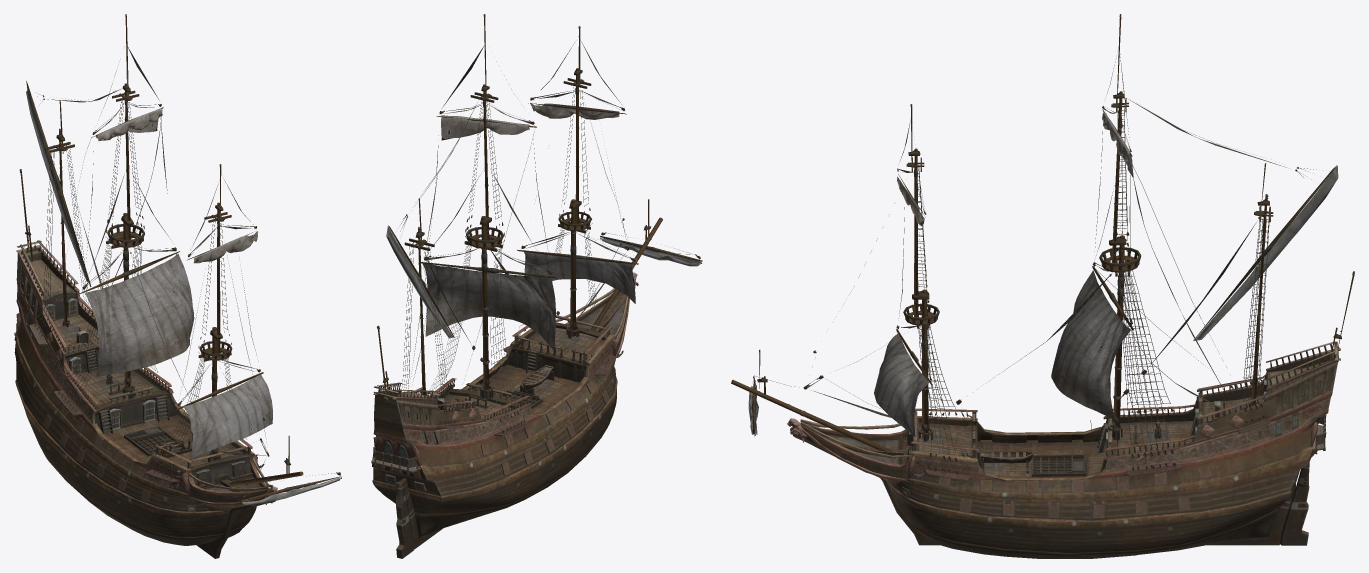
File: dutch_ship_large_02.glb
3 views of the same model, side by side, from view 1: azimuth 30°, elevation 25°; view 2: azimuth 150°, elevation 25°; view 3: azimuth 270°, elevation 25° (orthographic). The views are drawn at different scales.
Visible parts, largest first — view 1: dutch_ship_large_02_hull, dutch_ship_large_02_sails, dutch_ship_large_02_rigging; view 2: dutch_ship_large_02_hull, dutch_ship_large_02_rigging, dutch_ship_large_02_sails; view 3: dutch_ship_large_02_hull, dutch_ship_large_02_rigging, dutch_ship_large_02_sails.
Part boxes in pixels (<box>): dutch_ship_large_02_hull: <box>14,240,277,558</box>; dutch_ship_large_02_sails: <box>85,108,272,458</box>; dutch_ship_large_02_rigging: <box>19,14,341,506</box>; dutch_ship_large_02_hull: <box>371,272,638,558</box>; dutch_ship_large_02_rigging: <box>377,14,702,445</box>; dutch_ship_large_02_sails: <box>422,103,635,350</box>; dutch_ship_large_02_hull: <box>787,341,1340,558</box>; dutch_ship_large_02_rigging: <box>731,14,1354,484</box>; dutch_ship_large_02_sails: <box>874,112,1133,436</box>.
Bounding box in the file's own units: 8.54 × 32.05 × 34.21.
3 materials, 3 textured.
